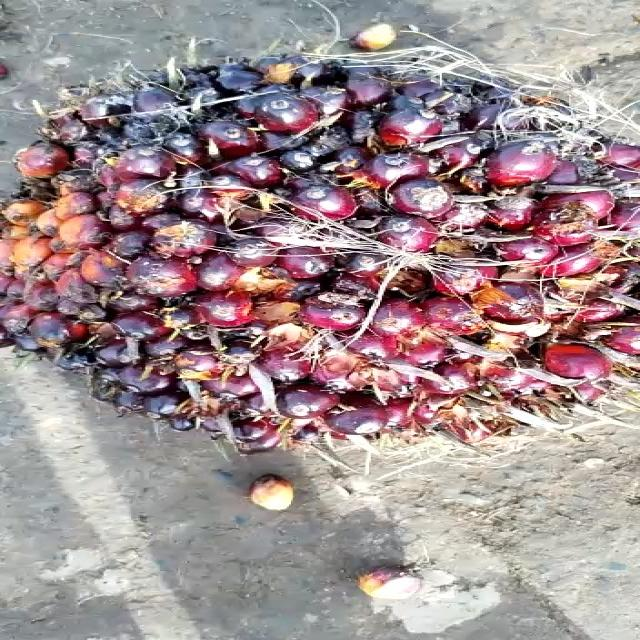palm oil: (0, 31, 640, 463)
